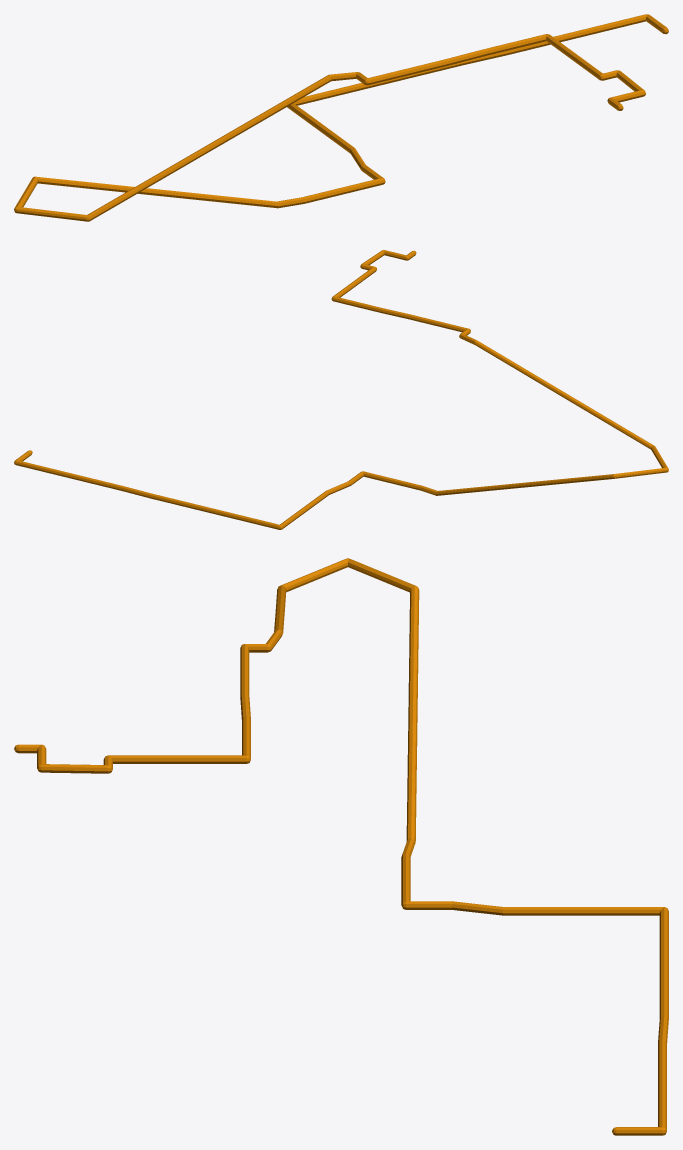
3 views of the same model, one above another, from view 1: azimuth 30°, elevation 25°; view 2: azimuth 150°, elevation 25°; view 3: azimuth 270°, elevation 25° (orthographic). The views are drawn at different scales.
Bounding box in the file's own units: 2406 × 520 × 1422.
